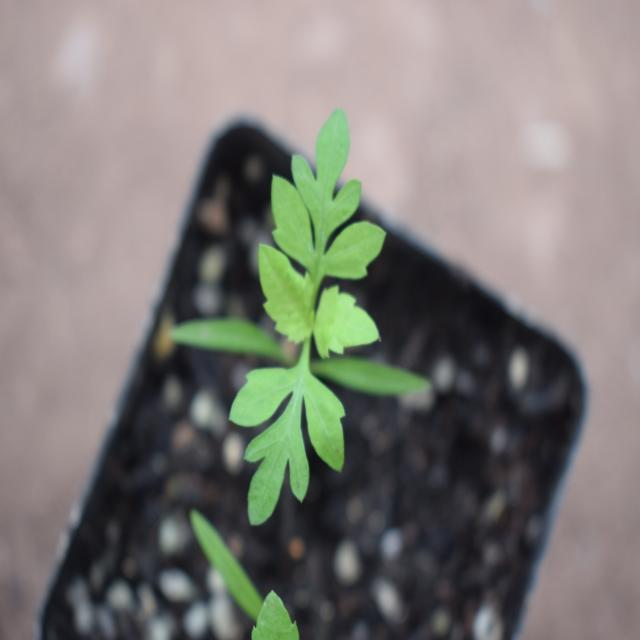Bidens pilosa: (209, 95, 429, 519)
